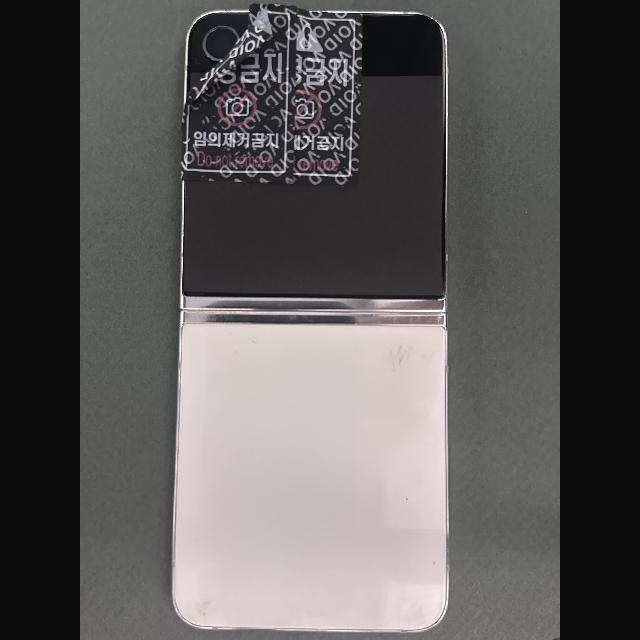lens: (204, 27, 239, 62)
phone: (171, 9, 450, 634)
sticker: (180, 3, 298, 185), (290, 7, 363, 186)
